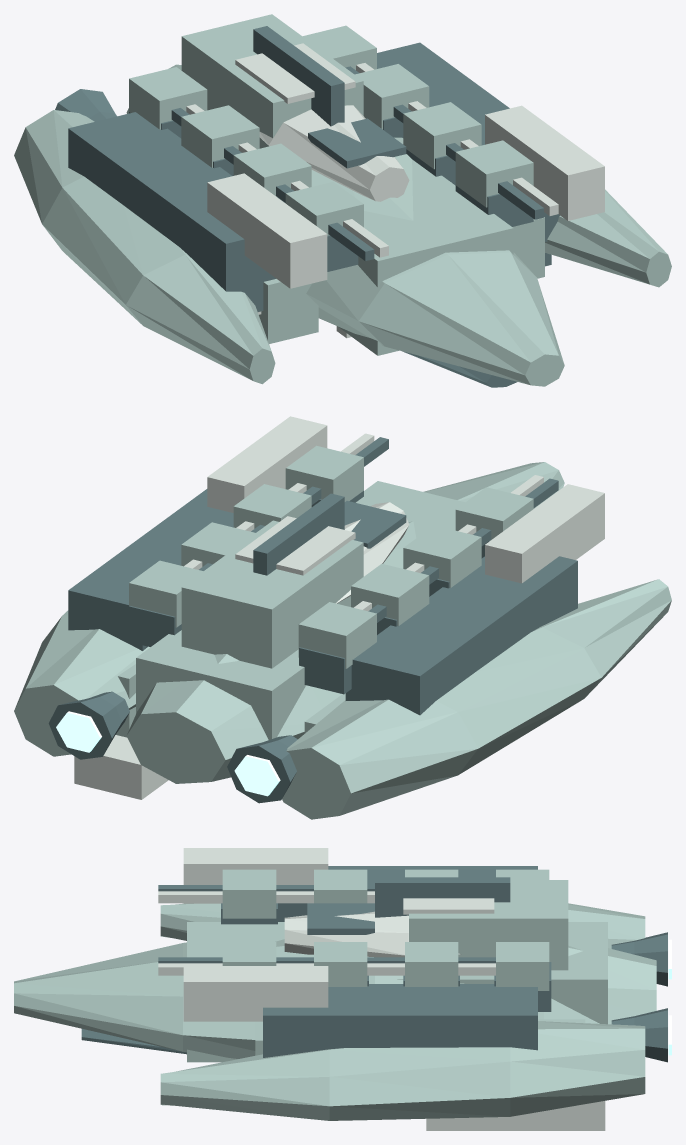
3 views of the same model, one above another, from view 1: azimuth 30°, elevation 25°; view 2: azimuth 150°, elevation 25°; view 3: azimuth 270°, elevation 25° (orthographic). The views are drawn at different scales.
Bounding box in the file's own units: 16.82 × 7.56 × 23.12.
